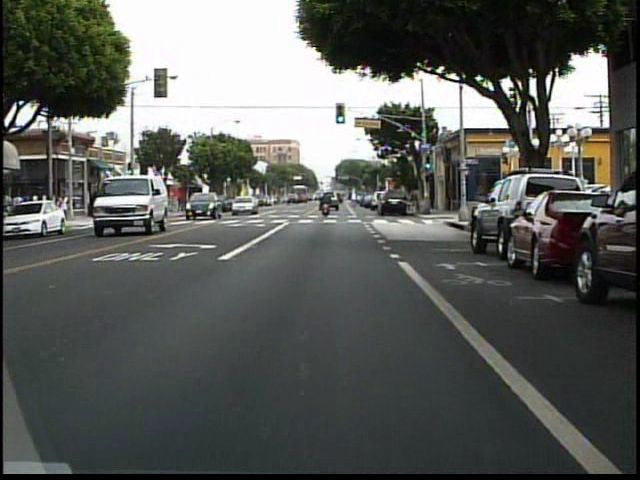person: (58, 189, 74, 228), (321, 189, 336, 219), (97, 190, 109, 221), (85, 190, 96, 221)
